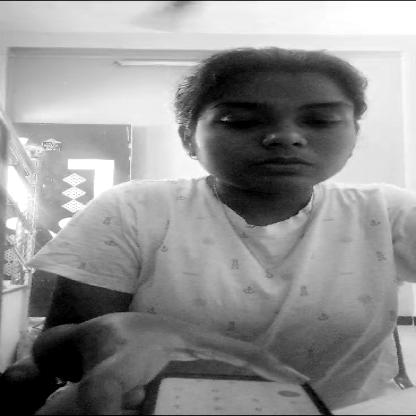Normal: (174, 54, 374, 194)
